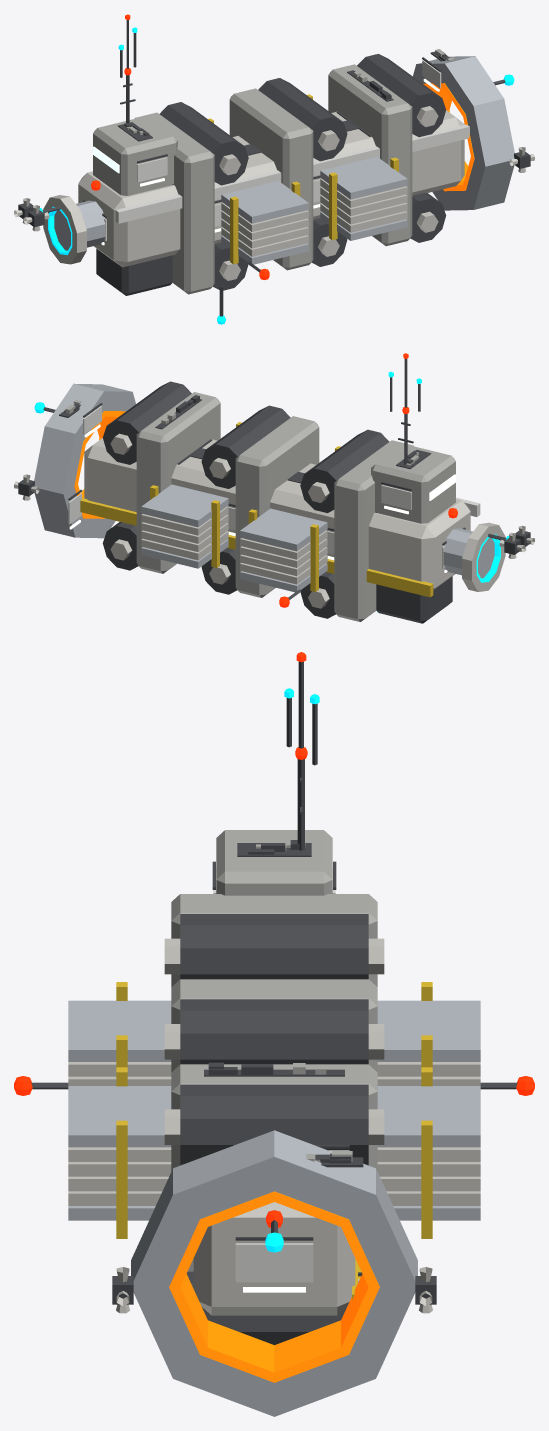
File: plating_works.glb
3 views of the same model, one above another, from view 1: azimuth 30°, elevation 25°; view 2: azimuth 150°, elevation 25°; view 3: azimuth 270°, elevation 25° (orthographic). The views are drawn at different scales.
Parts seen in each view (by area): view 1: plating_works; view 2: plating_works; view 3: plating_works.
Part boxes in pixels (box(x1,y1,x2,y2)): plating_works: box(14, 14, 534, 324); plating_works: box(14, 353, 534, 623); plating_works: box(14, 652, 534, 1416).
Size of the model in its own units: 2 by 1.16 by 1.03.
